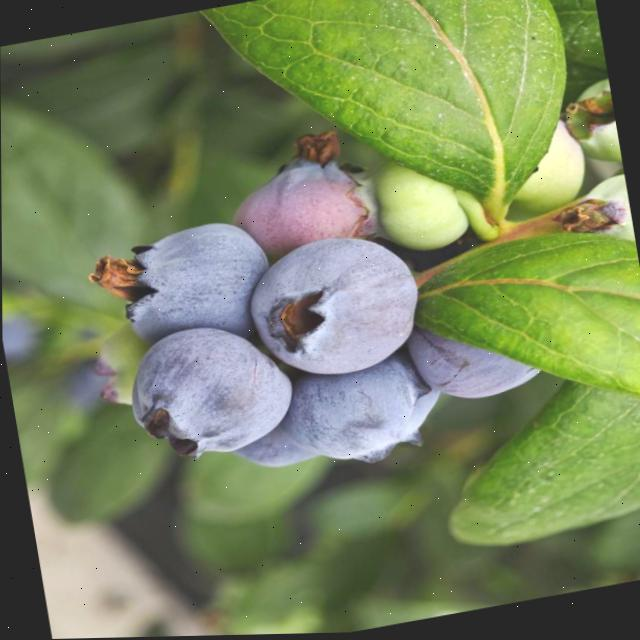RipeBlueBerry: (236, 224, 430, 392), (117, 312, 303, 471), (98, 213, 278, 352)
Semi-RipeBlueBerry: (221, 145, 383, 262)
